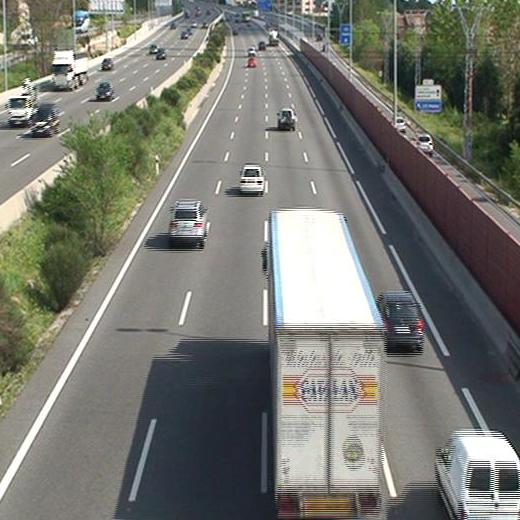car: (376, 293, 426, 345), (168, 201, 208, 245), (239, 163, 264, 192), (277, 108, 296, 129), (247, 56, 257, 68)
truck: (263, 210, 384, 520)
van: (432, 432, 520, 520)
